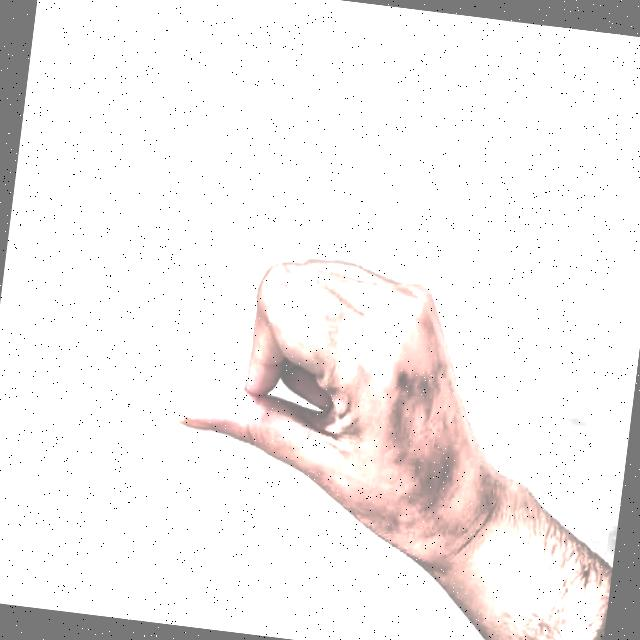Ay: (137, 200, 546, 582)
